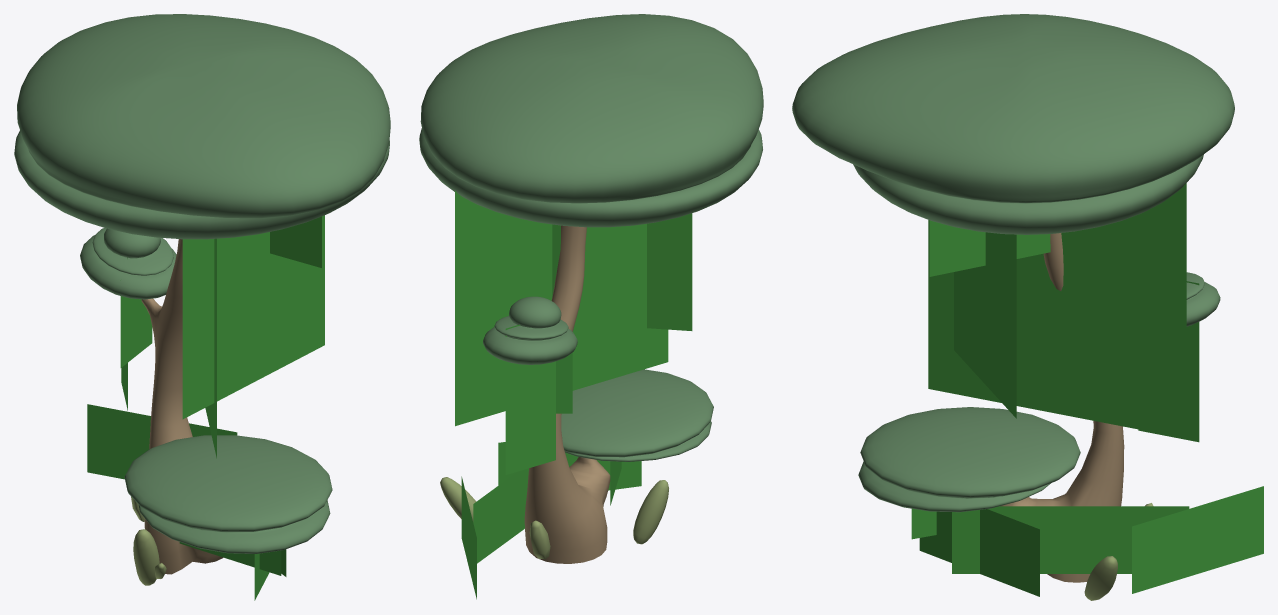
The model's file is tree.fbx.
3 views of the same model, side by side, from view 1: azimuth 30°, elevation 25°; view 2: azimuth 150°, elevation 25°; view 3: azimuth 270°, elevation 25° (orthographic). The views are drawn at different scales.
Visible parts, largest first — view 1: groß_krone, mittel_krone, liane, Treestunk, klein_krone, gras2, liane4, liane2, gewächse, liane5, liane1; view 2: groß_krone, liane5, mittel_krone, Treestunk, liane3, liane, klein_krone, gras, gewächse, gras1, gras2, liane2; view 3: groß_krone, liane5, mittel_krone, gras, gras2, liane, Treestunk, gras1, liane4, liane3, klein_krone, gewächse (+1 smaller).
Boxes of the visible parts, x1,y1,x2,y2 form: groß_krone: [14, 14, 390, 239]; mittel_krone: [124, 435, 332, 553]; liane: [182, 215, 324, 419]; Treestunk: [141, 239, 223, 574]; klein_krone: [80, 228, 176, 299]; gras2: [87, 404, 237, 479]; liane4: [270, 216, 321, 267]; liane2: [120, 280, 152, 367]; gewächse: [131, 497, 166, 585]; liane5: [205, 238, 216, 458]; liane1: [179, 542, 281, 575]; groß_krone: [419, 14, 763, 227]; liane5: [455, 190, 668, 426]; mittel_krone: [561, 369, 713, 461]; Treestunk: [524, 225, 610, 563]; liane3: [505, 324, 555, 474]; liane: [647, 213, 692, 330]; klein_krone: [483, 296, 577, 364]; gras: [473, 452, 569, 563]; gewächse: [440, 477, 668, 559]; gras1: [498, 442, 641, 490]; gras2: [461, 476, 476, 599]; liane2: [556, 352, 572, 413]; groß_krone: [792, 14, 1234, 234]; liane5: [928, 183, 1186, 438]; mittel_krone: [858, 407, 1080, 512]; gras: [952, 506, 1189, 573]; gras2: [1132, 486, 1263, 593]; liane: [954, 232, 1016, 418]; Treestunk: [1000, 233, 1124, 582]; gras1: [919, 509, 1039, 596]; liane4: [929, 220, 1050, 276]; liane3: [1138, 281, 1199, 442]; klein_krone: [1186, 272, 1220, 326]; gewächse: [1084, 503, 1153, 600].
Bounding box in the file's own units: 5.05 × 7.58 × 6.32.
